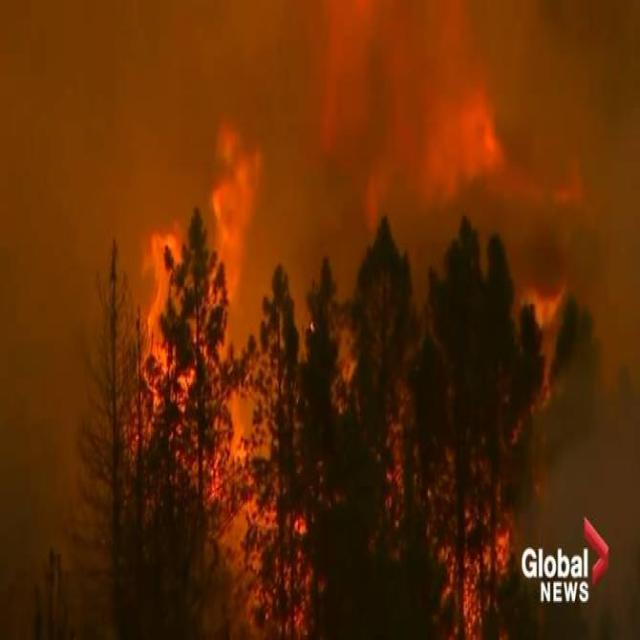Smoke: (117, 4, 640, 246), (0, 1, 116, 636), (560, 328, 636, 543)
